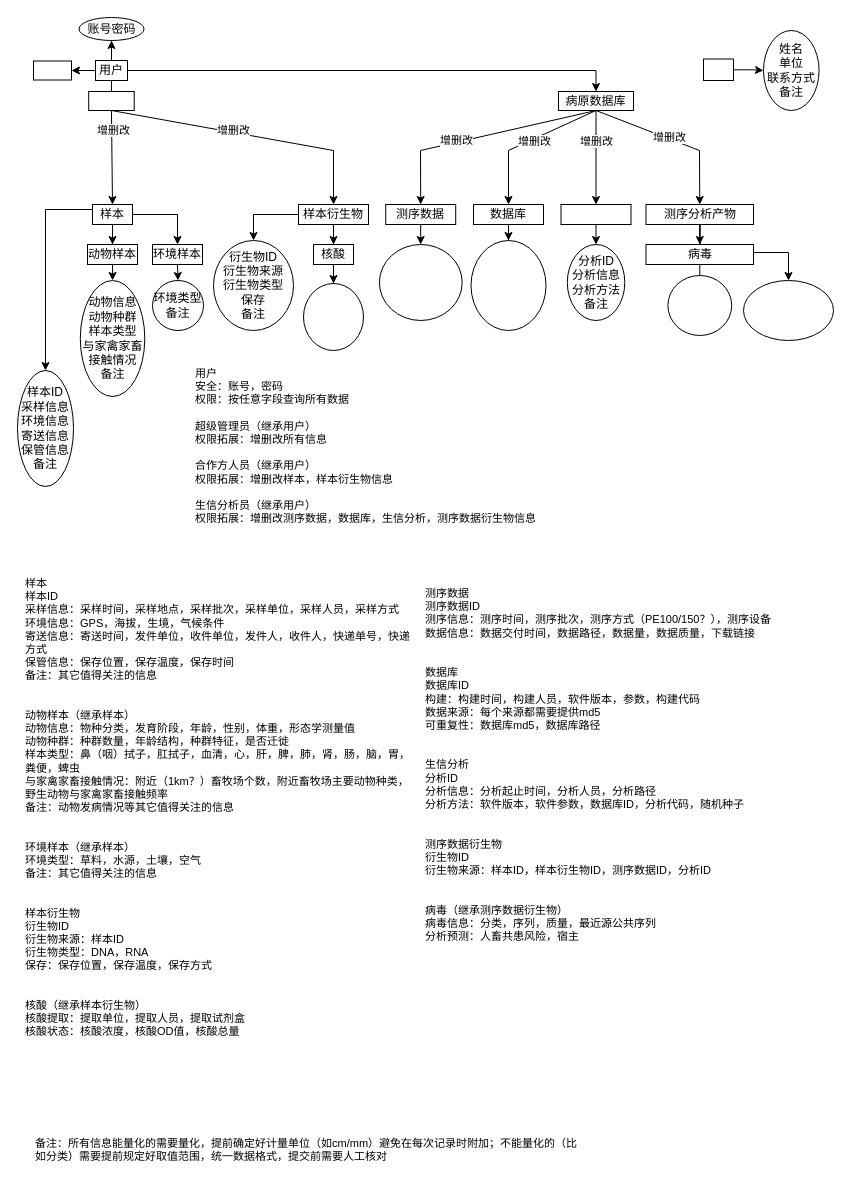
This 851x1188 diagram has some shape labels left out. The shapes that lost their labels are listed below. From the top down, each one's centre as x and y in pixels, then its label:
At pixel 52 70: "超管".
At pixel 718 69: "人员".
At pixel 111 100: "合作方".
At pixel 595 214: "生信分析".
At pixel 420 282: "测序数据ID 测序信息 数据信息 备注".
At pixel 508 285: "数据库ID 构建 数据来源 可重复性 备注".
At pixel 333 316: "核酸提取 核酸状态 备注".
At pixel 699 305: "病毒信息 分析预测 备注".
At pixel 788 310: "分析产物ID 分析产物来源 备注".
